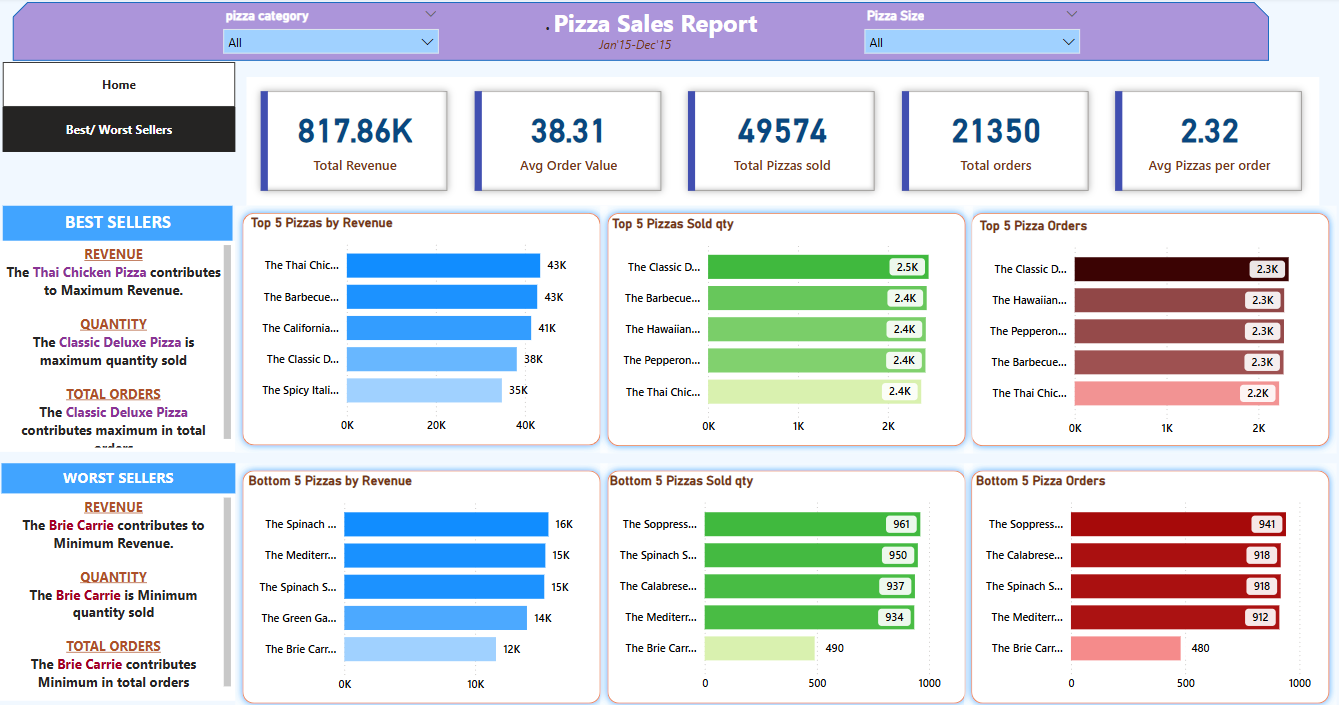

The page's visual inventory and layout, read from the dashboard file:
{"tool":"powerbi","page":{"name":"Best/ Worst Sellers","canvas":[1500,820],"ordinal":1},"visuals":[{"type":"textbox","box":[4.2,232.6,256.3,39],"z":0},{"type":"textbox","box":[0,271.6,263.2,235.4],"z":1000},{"type":"cardVisual","fields":{"Data":["pizza_sales_excel_file.Total Revenue","pizza_sales_excel_file.Avg Order Value","pizza_sales_excel_file.Total Pizzas sold","pizza_sales_excel_file.Total orders","pizza_sales_excel_file.Avg Pizzas per order"]},"box":[275.7,89.1,1194.9,143.4],"z":2000},{"type":"shape","box":[15.3,5.6,1399.6,65.5],"z":3000},{"type":"textbox","box":[573.8,5.6,296.6,83.6],"z":4000},{"type":"textbox","box":[628.1,39,161.5,32],"z":5000},{"type":"shape","box":[263.2,232.6,415,275],"z":6000},{"type":"slicer","fields":{"Values":["pizza_sales_excel_file.pizza_category"]},"box":[239.5,7,260.4,64.1],"z":7000},{"type":"textbox","box":[0,552.9,263.2,231.2],"z":8000},{"type":"textbox","box":[2.8,519.5,260.4,33.4],"z":9000},{"type":"slicer","fields":{"Values":["pizza_sales_excel_file.pizza_size"]},"box":[954,7,260.4,65.5],"z":10000},{"type":"shape","box":[1075.1,232.6,415,275.7],"z":11000},{"type":"shape","box":[669.9,232.6,415,275.7],"z":12000},{"type":"shape","box":[263.2,519.5,415,275.7],"z":13000},{"type":"shape","box":[669.9,519.5,415,275.7],"z":14000},{"type":"shape","box":[1075.1,519.5,415,275.7],"z":15000},{"type":"barChart","title":"Top 5 Pizzas by Revenue","fields":{"Category":["pizza_sales_excel_file.pizza_name"],"Y":["pizza_sales_excel_file.Total Revenue"]},"box":[275.7,242.3,394.1,253.5],"z":16000},{"type":"barChart","title":"Bottom 5 Pizzas by Revenue","fields":{"Category":["pizza_sales_excel_file.pizza_name"],"Y":["pizza_sales_excel_file.Total Revenue"]},"box":[273,530.6,394.1,253.5],"z":17000},{"type":"barChart","title":"Top 5 Pizzas Sold qty","fields":{"Category":["pizza_sales_excel_file.pizza_name"],"Y":["pizza_sales_excel_file.Total Pizzas sold"]},"box":[678.2,243.7,394.1,253.5],"z":18000},{"type":"barChart","title":"Bottom 5 Pizzas Sold qty","fields":{"Category":["pizza_sales_excel_file.pizza_name"],"Y":["pizza_sales_excel_file.Total Pizzas sold"]},"box":[675.4,530.7,394,252.5],"z":19000},{"type":"barChart","title":"Top 5 Pizza Orders","fields":{"Category":["pizza_sales_excel_file.pizza_name"],"Y":["pizza_sales_excel_file.Total orders"]},"box":[1087.1,246,394,252.5],"z":20000},{"type":"barChart","title":"Bottom 5 Pizza Orders","fields":{"Category":["pizza_sales_excel_file.pizza_name"],"Y":["pizza_sales_excel_file.Total orders"]},"box":[1083.8,530.7,394,252.5],"z":21000},{"type":"pageNavigator","box":[4.2,72.4,259,50.1],"z":21001},{"type":"pageNavigator","box":[4.2,122.6,259,50.1],"z":21002}]}

Visuals, with their boxes on the page's 1500x820 design canvas (x1, y1, x2, y2). These are canvas units, not pixel positions in the 1339x705 screenshot, which may show the page scaled, cropped or inside an application window:
textbox: [4,233,260,272]
textbox: [0,272,263,507]
cardVisual - pizza_sales_excel_file.Total Revenue x pizza_sales_excel_file.Avg Order Value: [276,89,1471,232]
shape: [15,6,1415,71]
textbox: [574,6,870,89]
textbox: [628,39,790,71]
shape: [263,233,678,508]
slicer - pizza_sales_excel_file.pizza_category: [240,7,500,71]
textbox: [0,553,263,784]
textbox: [3,520,263,553]
slicer - pizza_sales_excel_file.pizza_size: [954,7,1214,72]
shape: [1075,233,1490,508]
shape: [670,233,1085,508]
shape: [263,520,678,795]
shape: [670,520,1085,795]
shape: [1075,520,1490,795]
"Top 5 Pizzas by Revenue" barChart: [276,242,670,496]
"Bottom 5 Pizzas by Revenue" barChart: [273,531,667,784]
"Top 5 Pizzas Sold qty" barChart: [678,244,1072,497]
"Bottom 5 Pizzas Sold qty" barChart: [675,531,1069,783]
"Top 5 Pizza Orders" barChart: [1087,246,1481,498]
"Bottom 5 Pizza Orders" barChart: [1084,531,1478,783]
pageNavigator: [4,72,263,122]
pageNavigator: [4,123,263,173]
